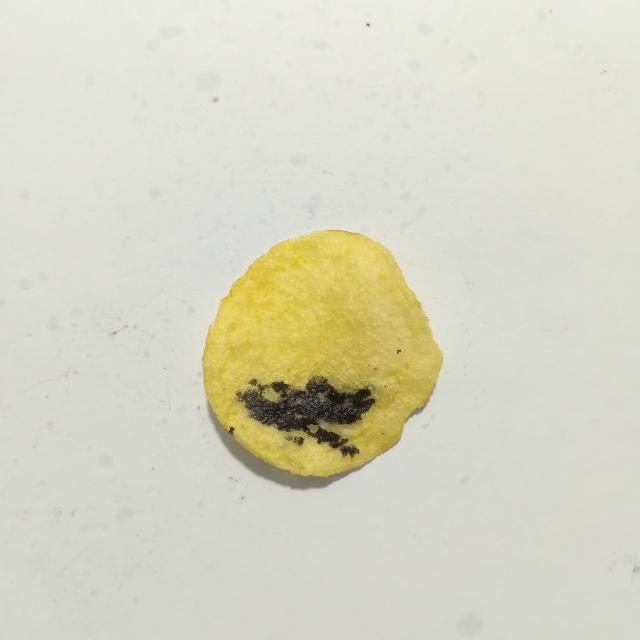chip: (203, 230, 442, 477)
damaged: (236, 376, 375, 448), (340, 445, 360, 457), (285, 435, 304, 445), (228, 426, 235, 435), (397, 350, 401, 354)
